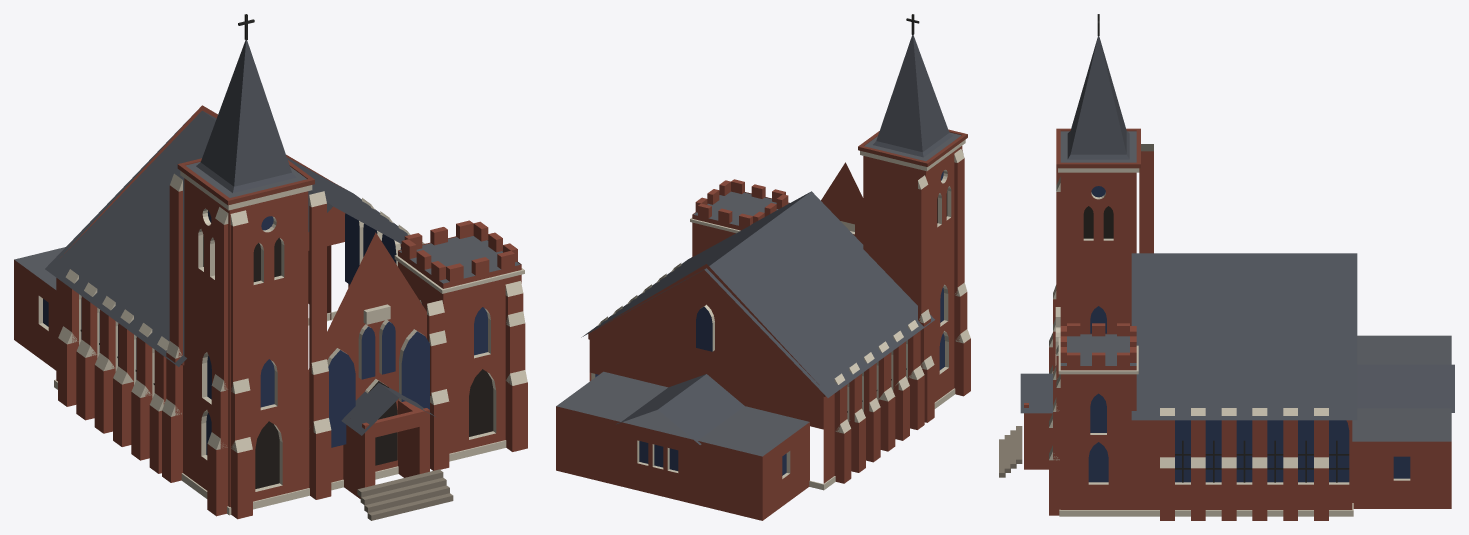
The model's file is first-baptist-church.glb.
3 renders of one model, left to right at view 1: azimuth 30°, elevation 25°; view 2: azimuth 150°, elevation 25°; view 3: azimuth 270°, elevation 25°, orthographic. The views are drawn at different scales.
Parts seen in each view (by area): view 1: first_brick, first_slate, first_stone, first_glass, first_dark, first_roof, first_base, first_brick2; view 2: first_brick, first_slate, first_roof, first_stone, first_glass, first_brick2; view 3: first_slate, first_brick, first_roof, first_glass, first_stone, first_brick2, first_lead, first_base, first_dark.
Part boxes in pixels (x1,y1,x2,y2): first_brick: [14, 105, 527, 519]; first_slate: [45, 40, 435, 435]; first_stone: [38, 171, 527, 515]; first_glass: [43, 210, 487, 454]; first_dark: [203, 235, 493, 488]; first_roof: [14, 162, 520, 289]; first_base: [357, 469, 453, 520]; first_brick2: [177, 158, 314, 365]; first_brick: [556, 131, 970, 520]; first_slate: [581, 35, 952, 444]; first_roof: [556, 132, 961, 456]; first_stone: [591, 139, 970, 490]; first_glass: [595, 171, 944, 475]; first_brick2: [588, 129, 967, 396]; first_slate: [1020, 36, 1454, 420]; first_brick: [1024, 130, 1451, 520]; first_roof: [1060, 131, 1451, 441]; first_glass: [1088, 186, 1410, 482]; first_stone: [1049, 144, 1410, 516]; first_brick2: [1056, 128, 1140, 168]; first_lead: [1097, 14, 1349, 482]; first_base: [999, 426, 1022, 477]; first_dark: [1083, 206, 1113, 238].
Size of the model in its own units: 18.5 by 26.8 by 27.51.
